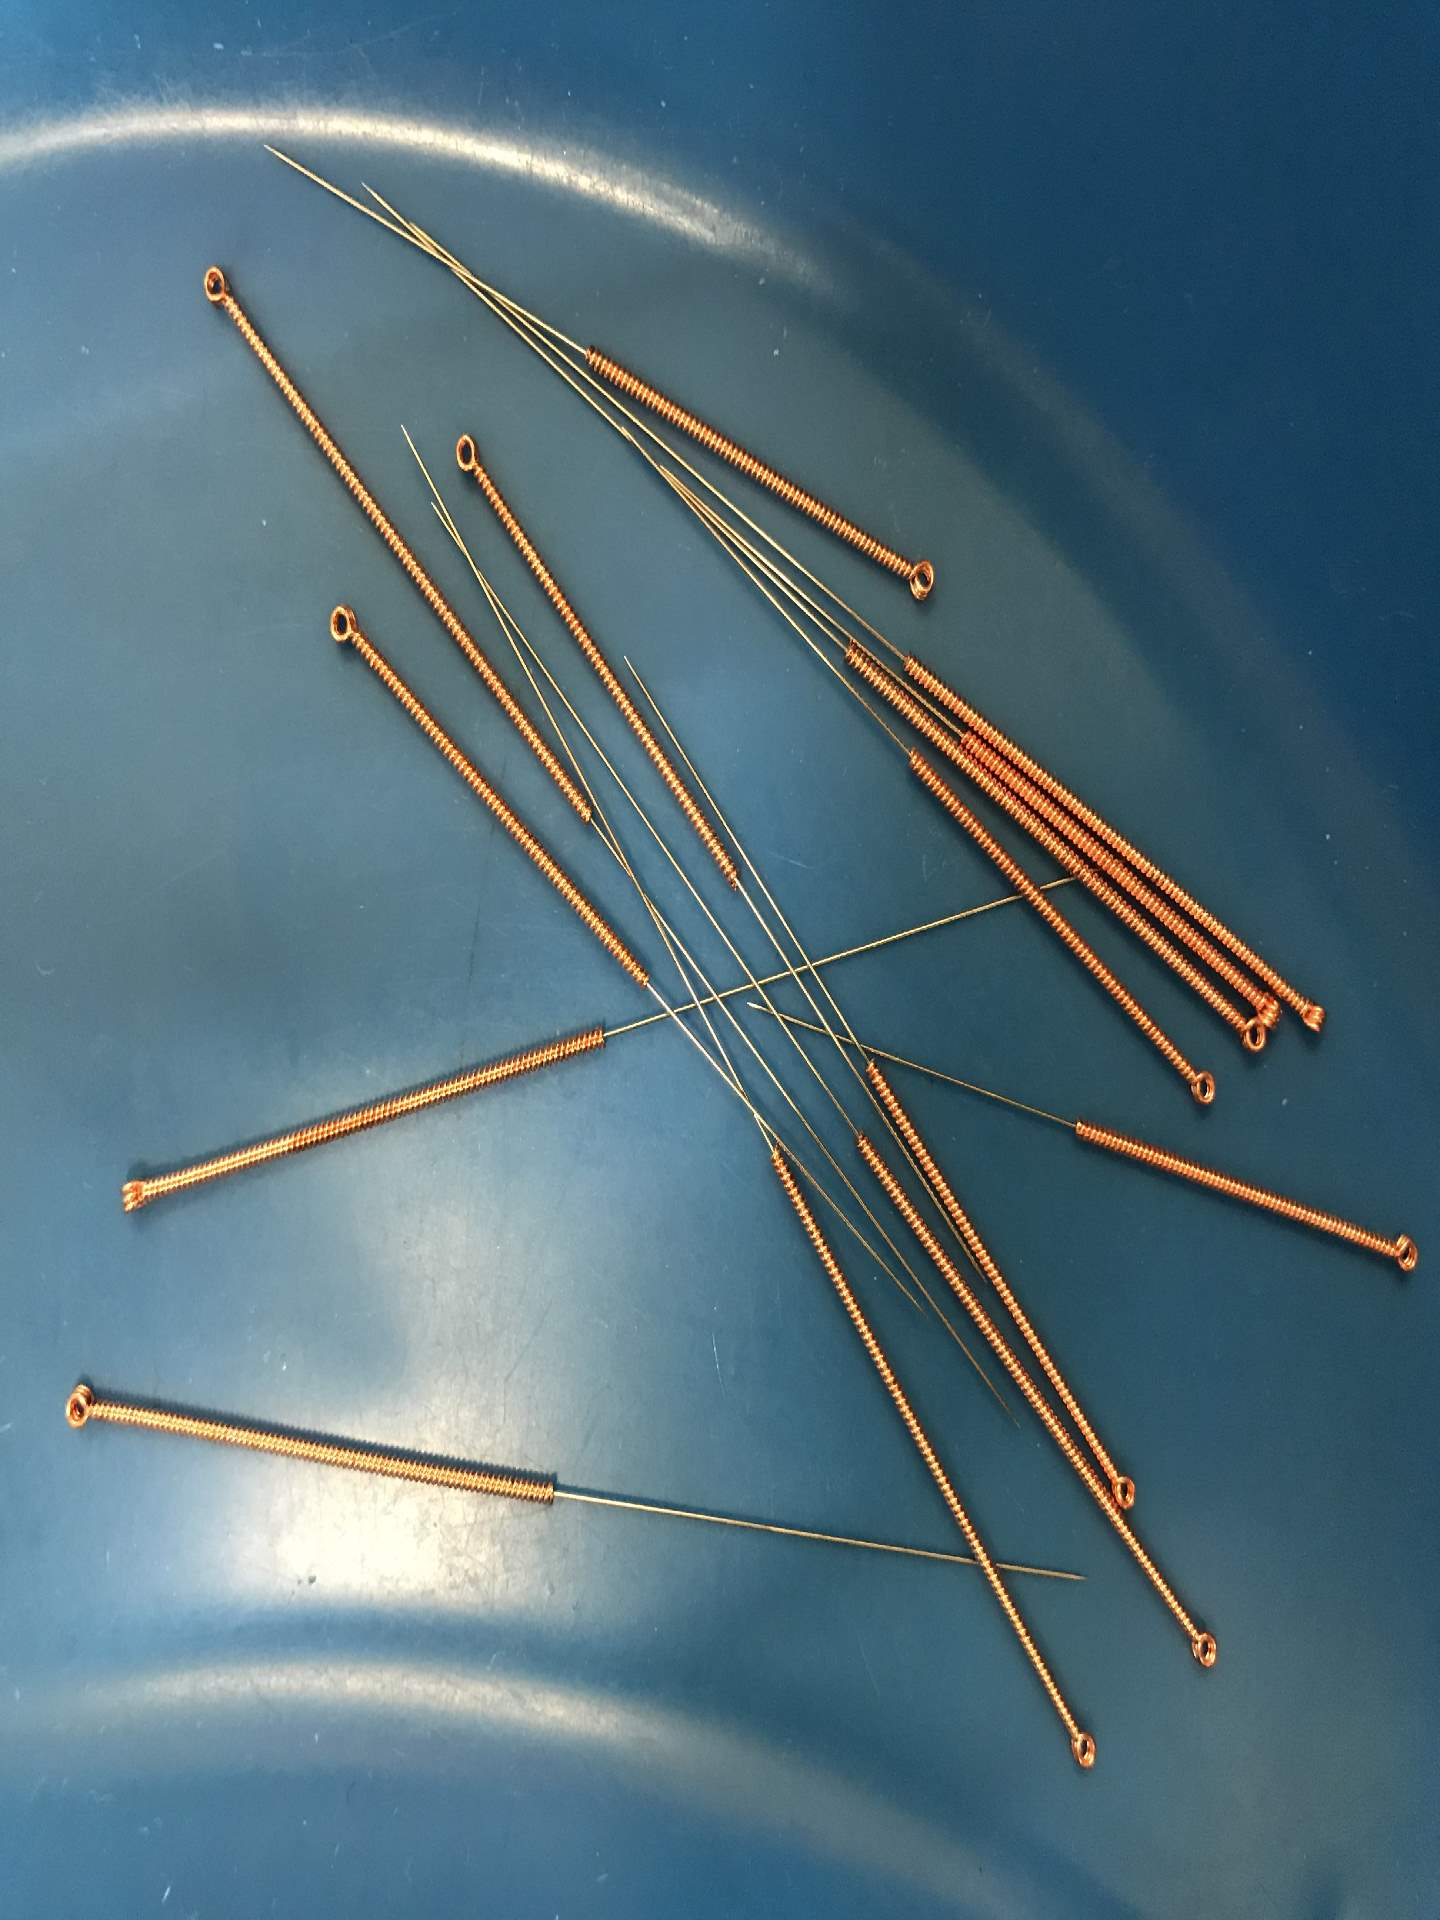needle: (42, 1370, 113, 1444), (1168, 1612, 1236, 1684), (107, 1154, 171, 1223), (185, 255, 248, 325), (880, 547, 951, 609), (312, 590, 374, 661), (1053, 1713, 1113, 1784), (1367, 1219, 1428, 1290), (439, 423, 496, 494), (1172, 1054, 1230, 1114), (1231, 1014, 1272, 1073), (1292, 989, 1333, 1046), (1106, 1448, 1141, 1510), (1252, 987, 1286, 1031)
